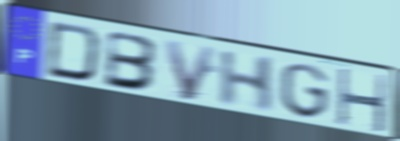B: (102, 28, 161, 93)
D: (44, 19, 105, 84)
G: (278, 62, 331, 121)
H: (217, 49, 278, 115), (336, 67, 389, 136)
V: (161, 38, 220, 104)
